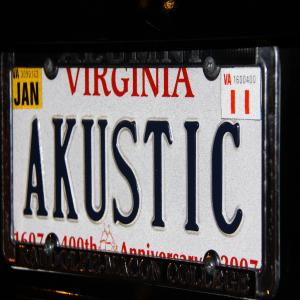Vehicle-registration-plate: (12, 69, 263, 269)
